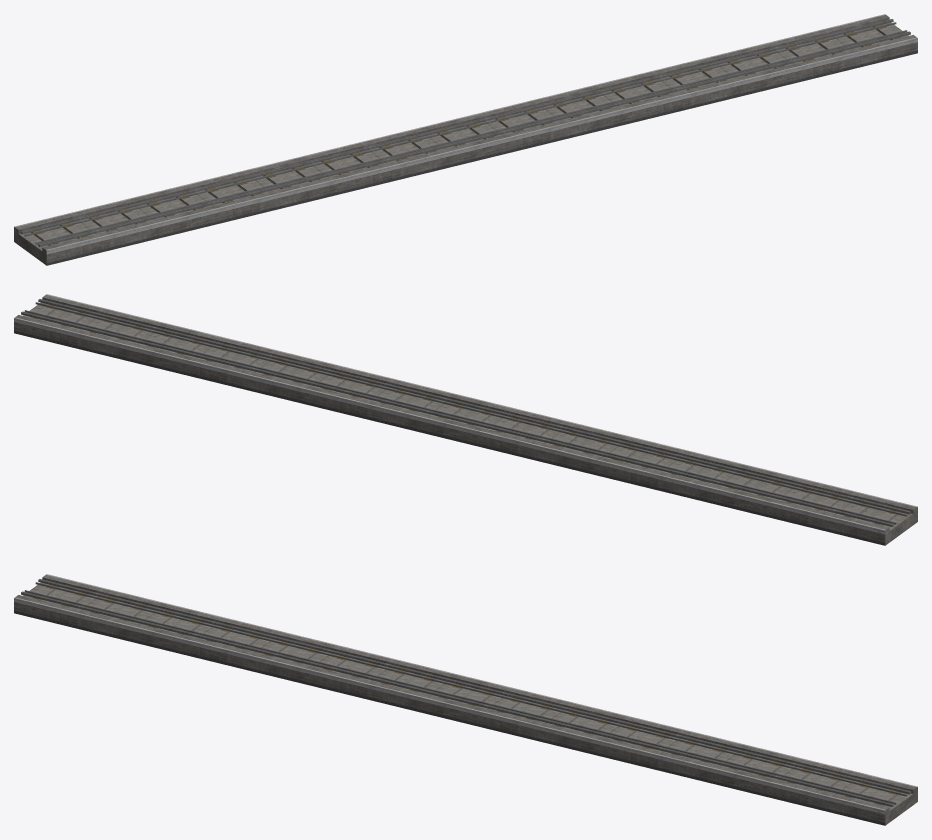
File: CP_Metro_Track_60m.fbx
The picture shows the model from 3 angles, top to bottom: view 1: azimuth 30°, elevation 25°; view 2: azimuth 150°, elevation 25°; view 3: azimuth 330°, elevation 25°; orthographic projection.
Parts seen in each view (by area): view 1: CP_Metro_Track_60m_LOD0; view 2: CP_Metro_Track_60m_LOD0; view 3: CP_Metro_Track_60m_LOD0.
Part boxes in pixels (<box>): CP_Metro_Track_60m_LOD0: <box>14,14,917,265</box>; CP_Metro_Track_60m_LOD0: <box>14,294,917,545</box>; CP_Metro_Track_60m_LOD0: <box>14,574,917,825</box>.
Size of what is drawn, in the model's own units: 6000 by 103 by 391.
